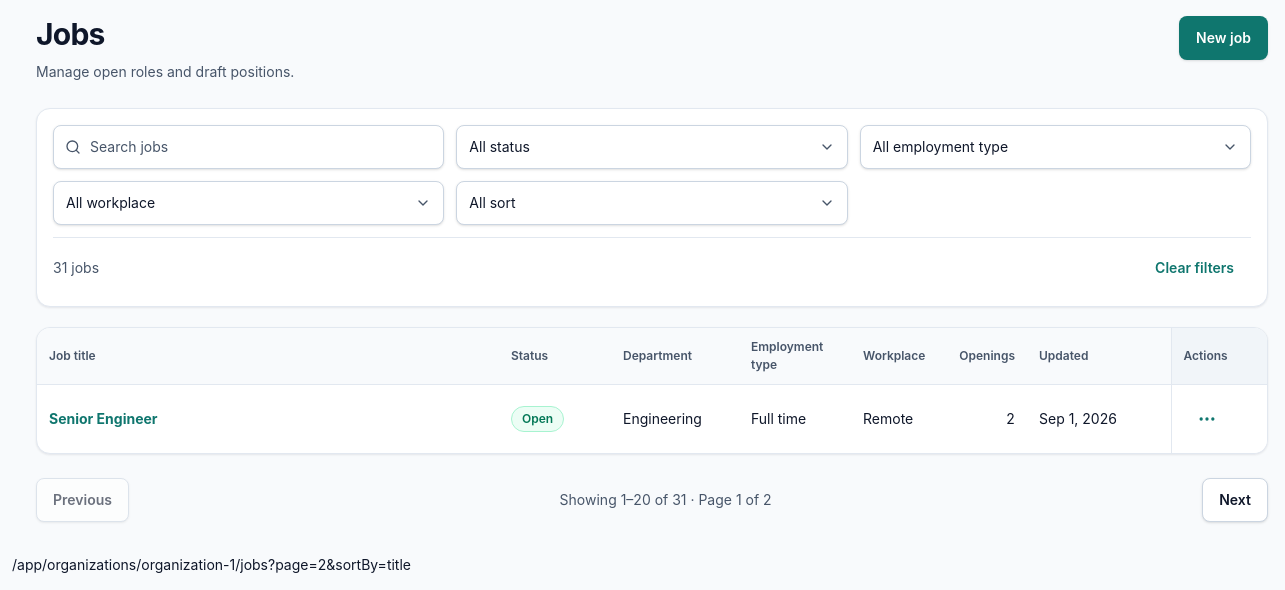
Scenario: jobs list page › persists search and status filters in the URL and resets pagination
In the field labelled "Search jobs": x=249, y=146 [53, 124, 444, 168], type "Engineer"
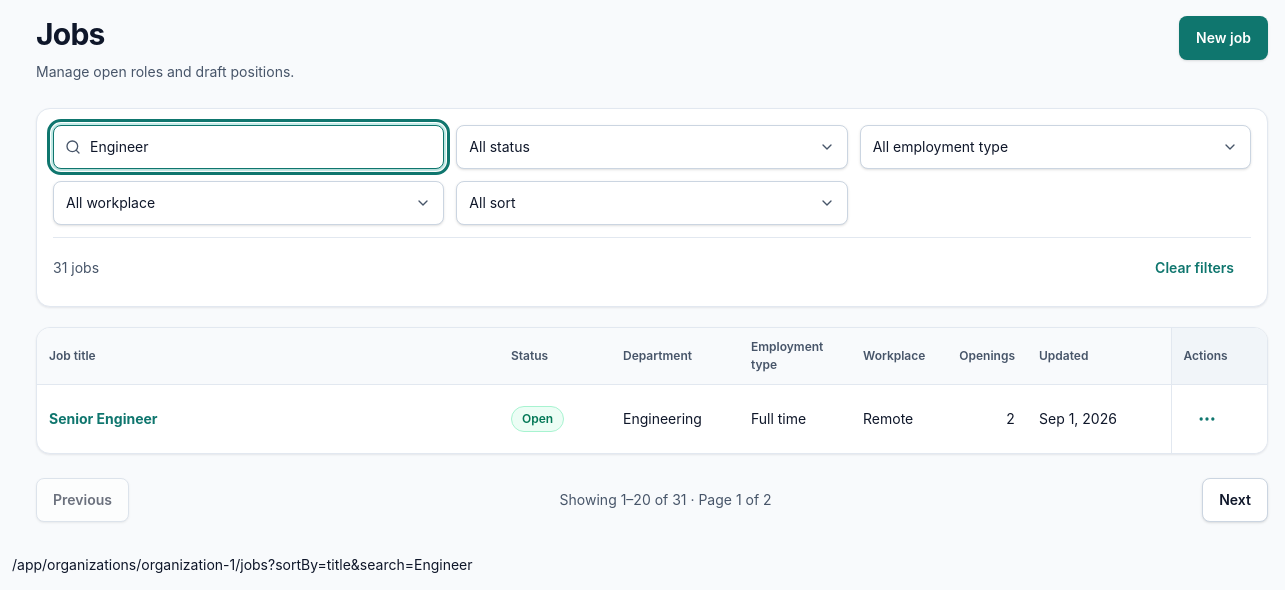
Expected: the text with test id "location" shows "search=Engineer", [12, 556, 472, 572]
Expected: the text with test id "location" no longer shows "page=", [12, 556, 472, 572]
Select "Open" in the dropdown named "Status": x=652, y=146 [456, 124, 848, 168]
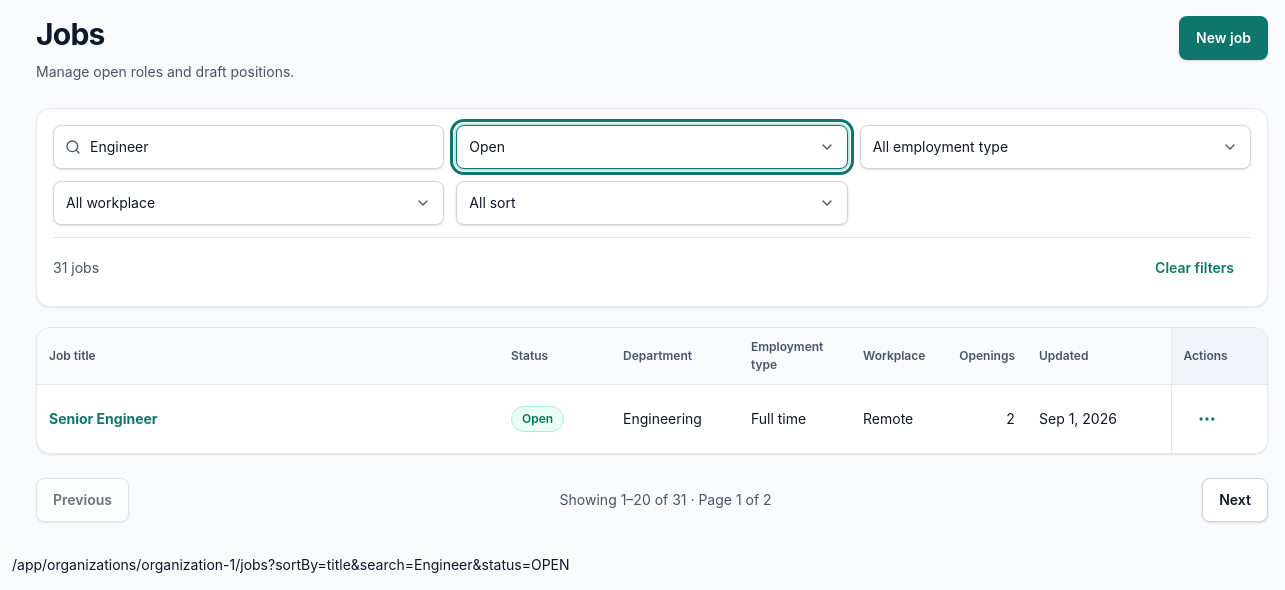
Expected: the text with test id "location" shows "status=OPEN", [12, 556, 570, 572]
